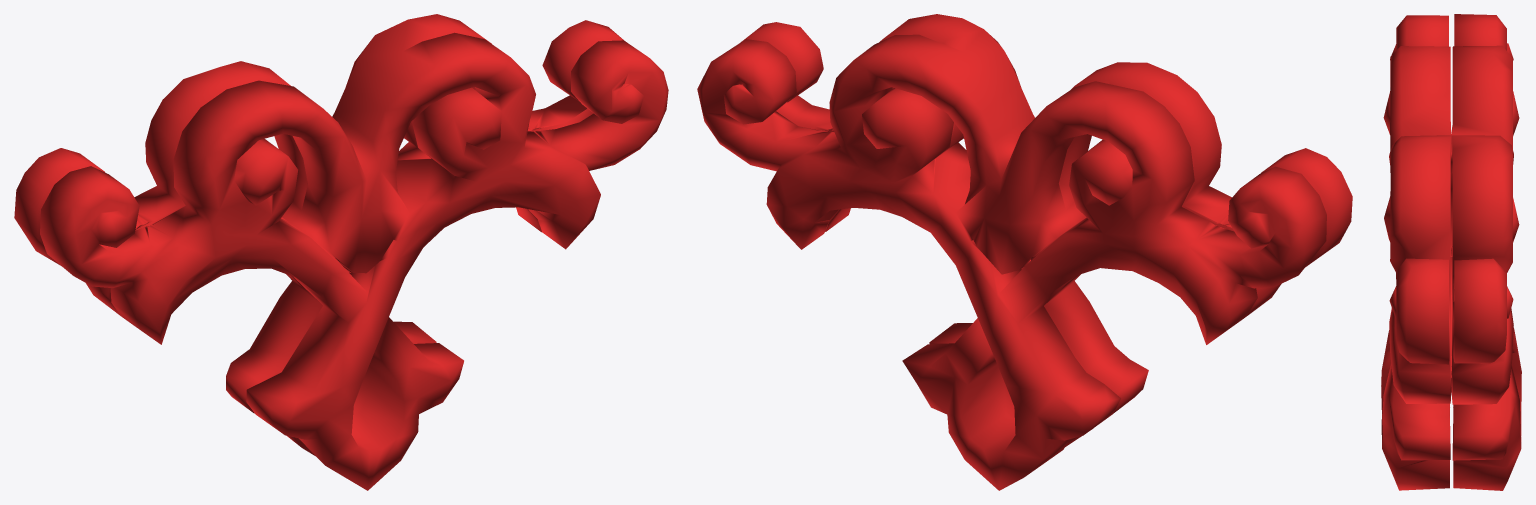
The model's file is SM_SmallOrnament_A_001.FBX.
The picture shows the model from 3 angles, left to right: view 1: azimuth 30°, elevation 25°; view 2: azimuth 150°, elevation 25°; view 3: azimuth 270°, elevation 25°; orthographic projection. The views are drawn at different scales.
Parts seen in each view (by area): view 1: SM_SmallOrnament_A_001; view 2: SM_SmallOrnament_A_001; view 3: SM_SmallOrnament_A_001.
Part boxes in pixels (bbox=[...]): SM_SmallOrnament_A_001: bbox=[14, 14, 668, 490]; SM_SmallOrnament_A_001: bbox=[697, 14, 1352, 490]; SM_SmallOrnament_A_001: bbox=[1381, 14, 1521, 490].
Size of the model in its own units: 208 by 135 by 43.75.
